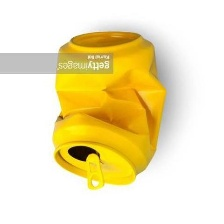can: (49, 27, 168, 192)
